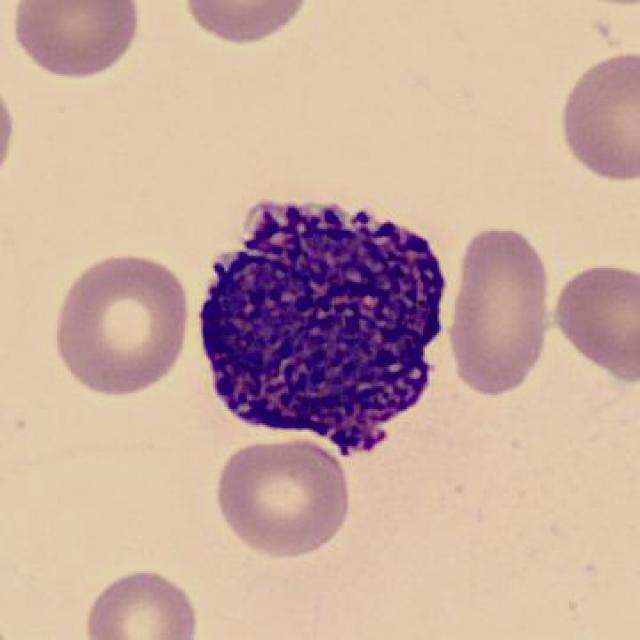RBC: (46, 247, 194, 400), (441, 220, 556, 398), (208, 432, 356, 562), (551, 47, 638, 187), (547, 257, 640, 382), (7, 0, 144, 83), (78, 562, 203, 640), (176, 0, 316, 48)
